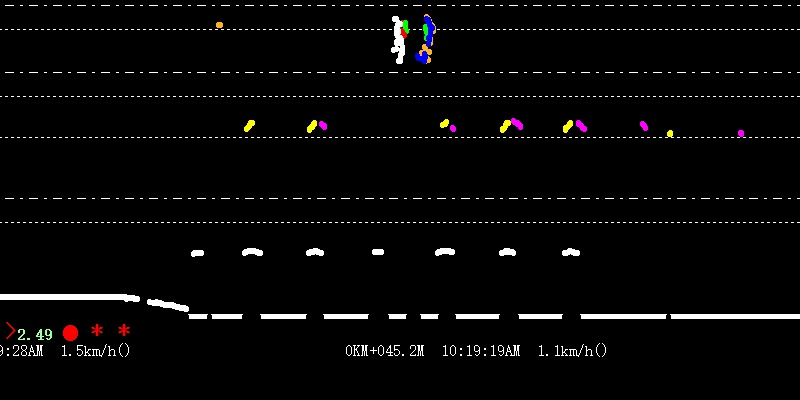J: (388, 2, 436, 67)
circle: (61, 322, 78, 342)
face_up: (216, 18, 223, 35)
star: (89, 318, 104, 340), (117, 319, 132, 340)
y_p: (223, 108, 598, 275)
